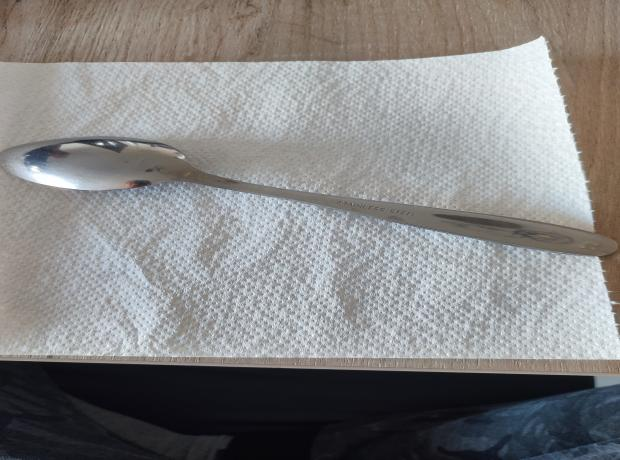metal: (2, 136, 616, 259)
